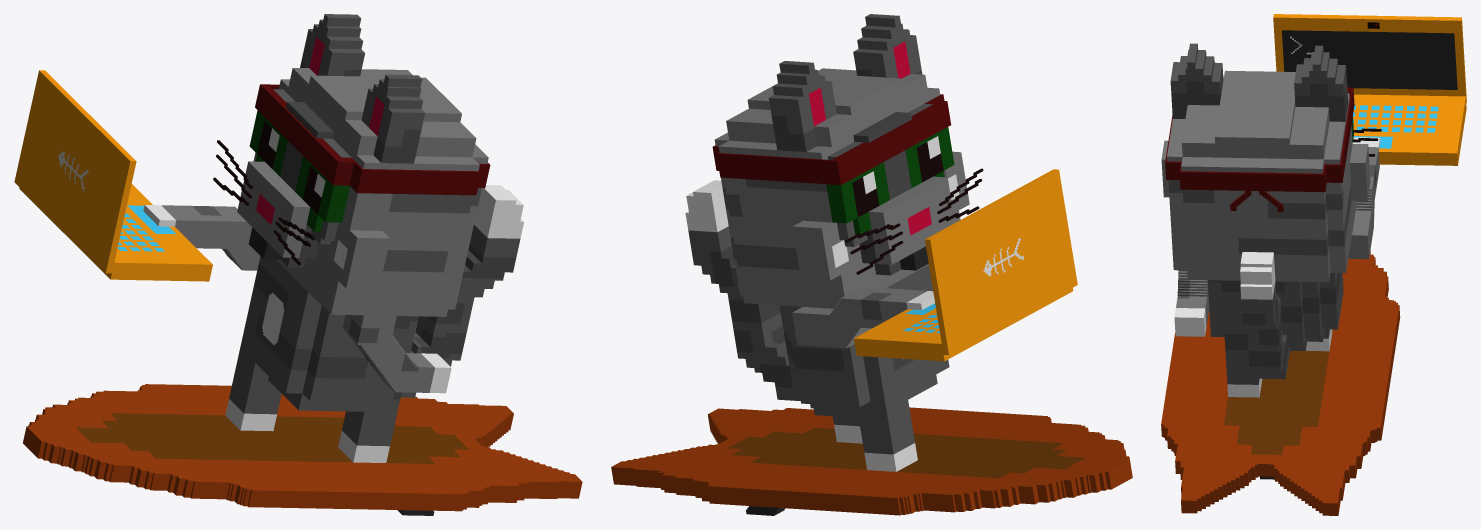
File: surfkitty.glb
3 views of the same model, side by side, from view 1: azimuth 30°, elevation 25°; view 2: azimuth 150°, elevation 25°; view 3: azimuth 270°, elevation 25° (orthographic). The views are drawn at different scales.
Parts seen in each view (by area): view 1: SurfCatBandana; view 2: SurfCatBandana; view 3: SurfCatBandana.
Part boxes in pixels (x1,y1,x2,y2): SurfCatBandana: [14, 14, 582, 515]; SurfCatBandana: [611, 14, 1132, 515]; SurfCatBandana: [1161, 14, 1466, 515].
Size of the model in its own units: 24.79 by 22.38 by 15.52.
1 material, 1 textured.
